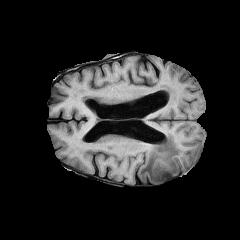glioma: (141, 132, 180, 181)
